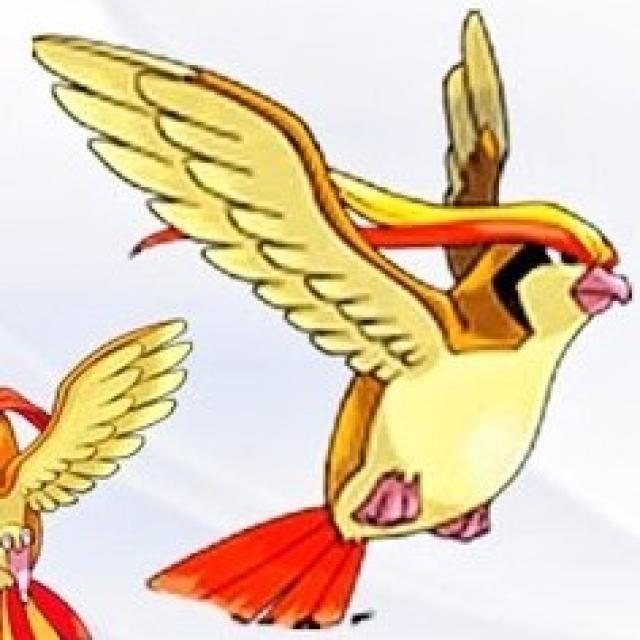Pidgeot: (233, 137, 634, 575)
